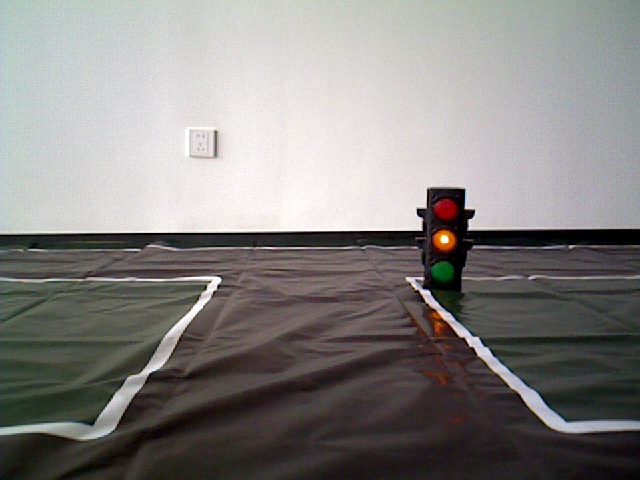yellow: (426, 185, 468, 287)
